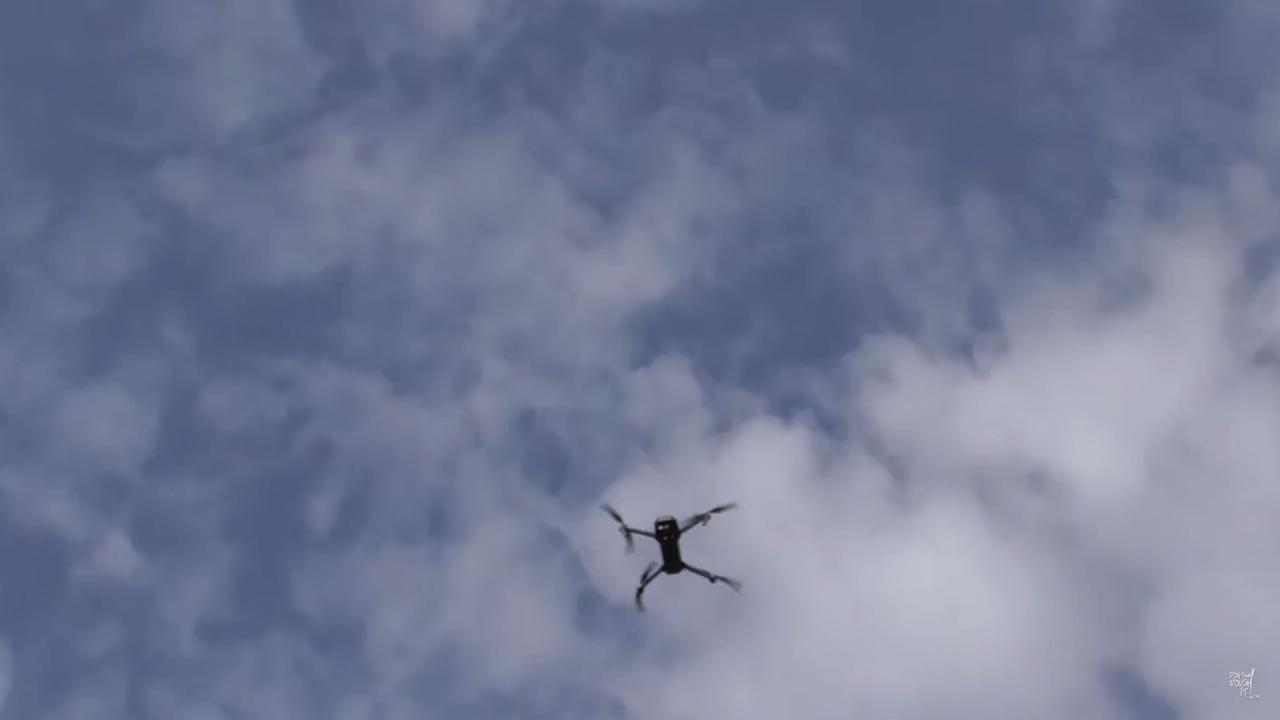Drone: (587, 492, 752, 620)
